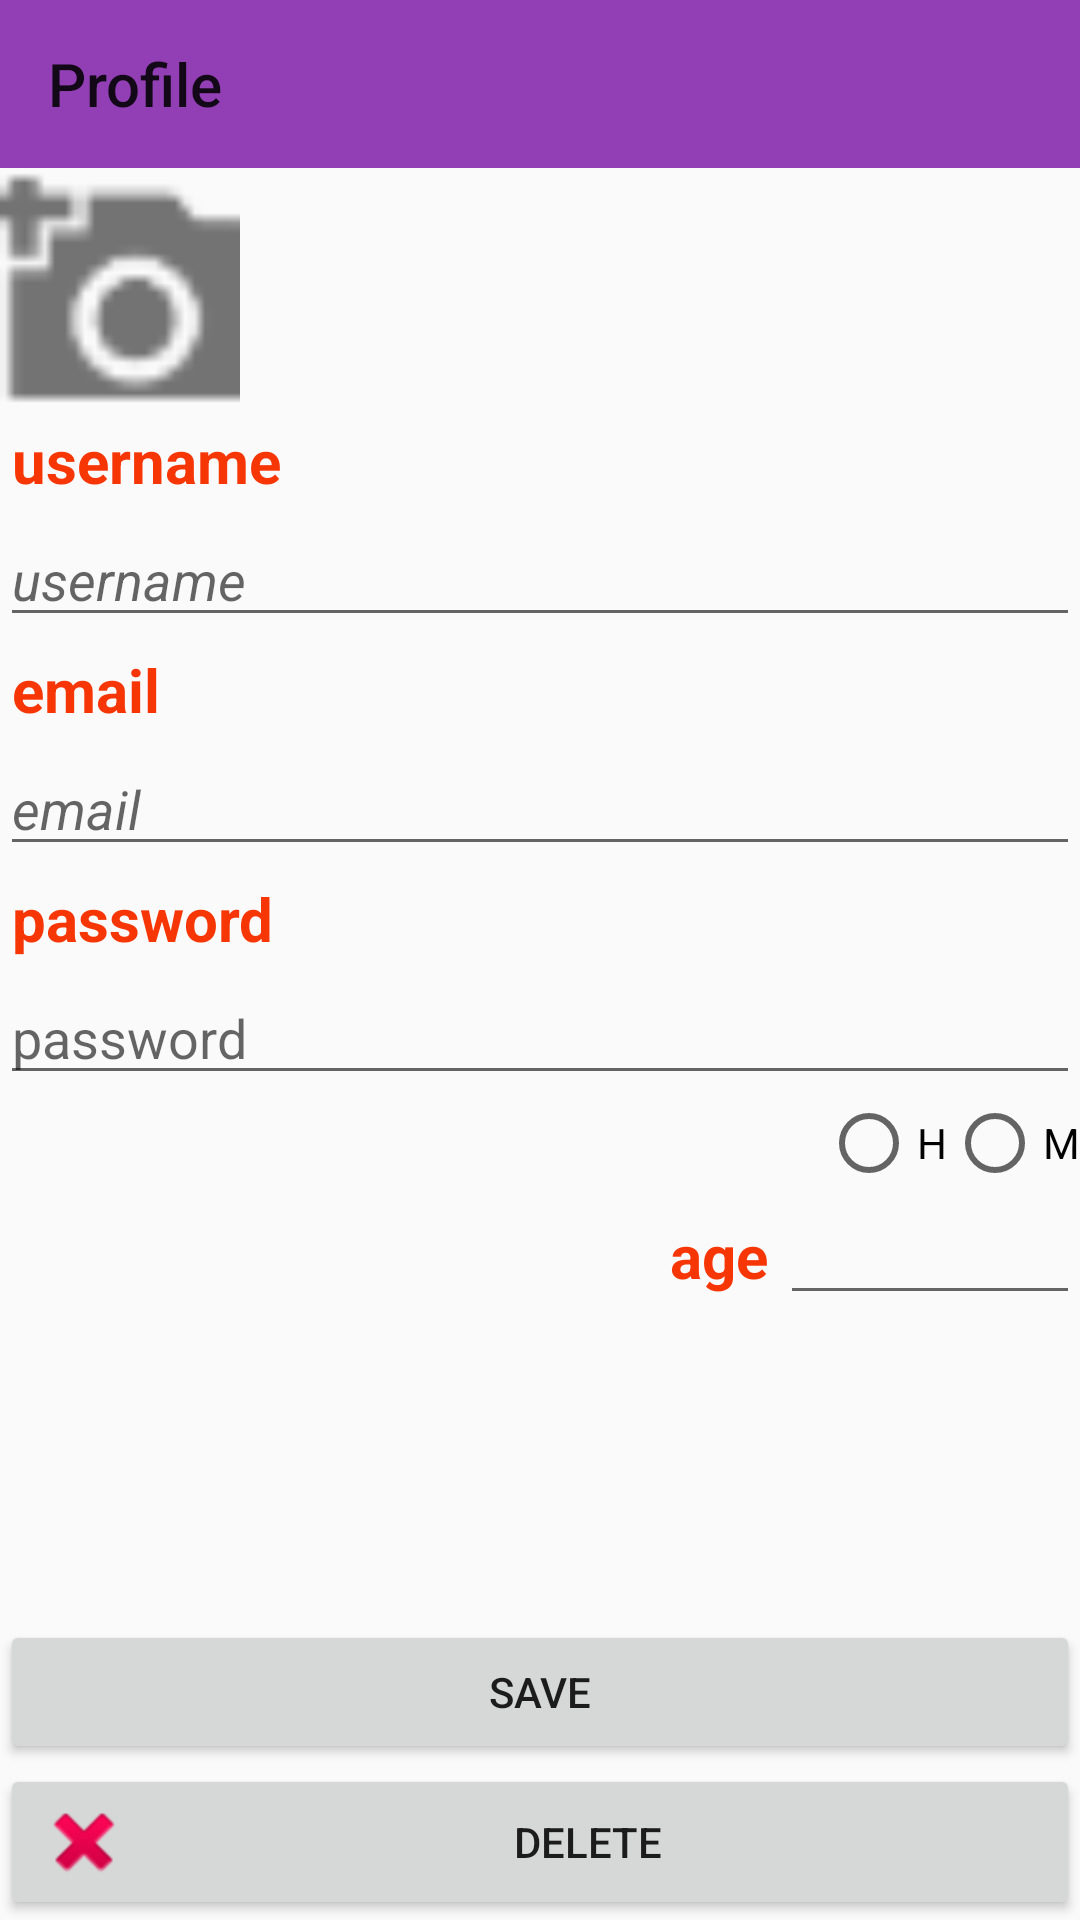

Point at icon controls on the screen. Image size 1080x1920, points as (x,y).
iconocamara: (120,288)
